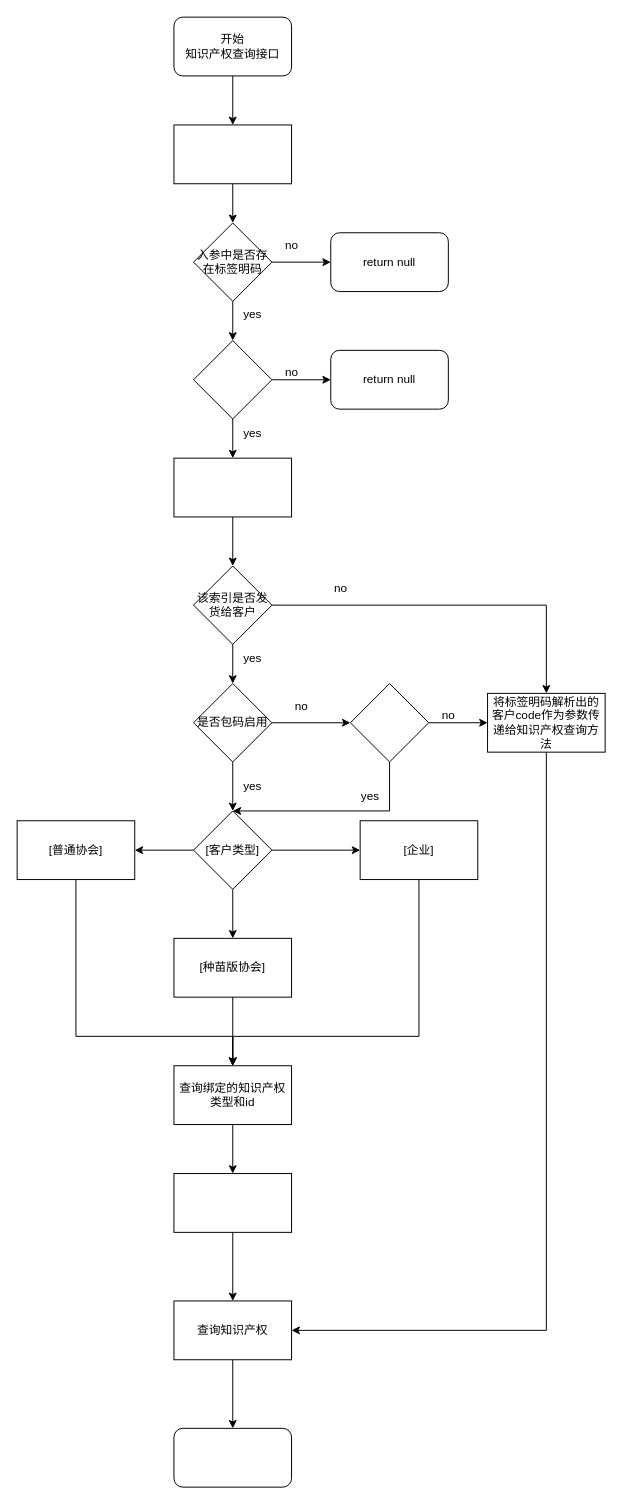
This 622x1504 diagram has some shape labels left out. Here are the shapes that lost their labels. From the top down, the centre of each, then its label:
[232,154]: 传入标签明码
[232,379]: 生产库是否存在该标签明码
[232,487]: 通过标签明码解析出客户code
[389,722]: 是否索引启用
[232,1202]: 将查询出来的信息作为参数传递给知识产权查询方法
[232,1457]: return 知识产权查询结果
